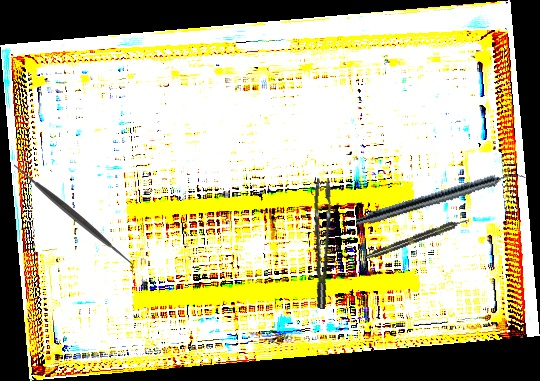Handpiece: (354, 164, 527, 232), (364, 215, 471, 262)
Spatula Surgical: (14, 156, 133, 274)
Tissue Forceps: (299, 176, 343, 310)
